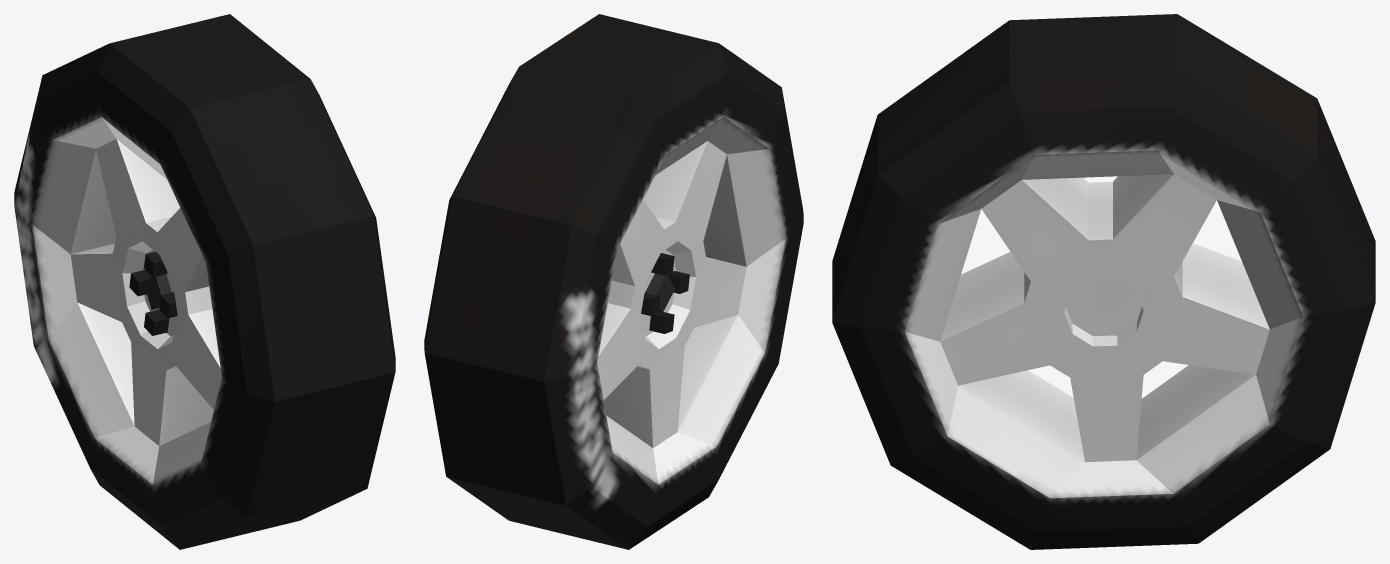
Rendered from Audi Quattro S1 v3 wheel.fbx.
3 renders of one model, left to right at view 1: azimuth 30°, elevation 25°; view 2: azimuth 150°, elevation 25°; view 3: azimuth 270°, elevation 25°, orthographic. The views are drawn at different scales.
Parts seen in each view (by area): view 1: Wheels; view 2: Wheels; view 3: Wheels.
Part boxes in pixels (x1,y1,x2,y2): Wheels: (14, 14, 395, 549); Wheels: (424, 14, 803, 549); Wheels: (832, 14, 1375, 549).
Size of the model in its own units: 24.62 by 66.52 by 69.02.
